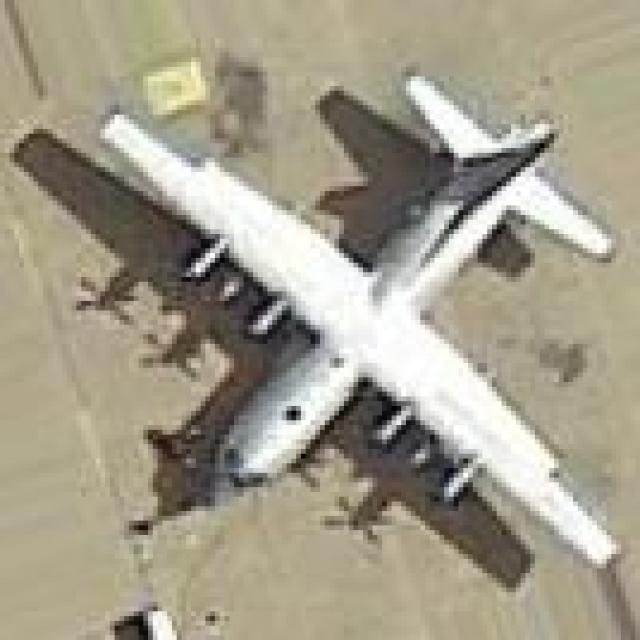C-130_TopDown: (5, 53, 640, 597)
